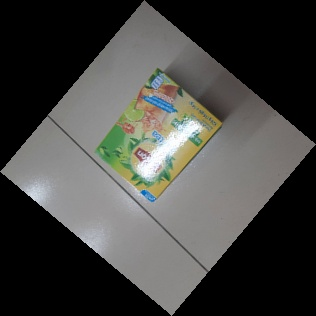LipTon: (91, 68, 224, 203)
